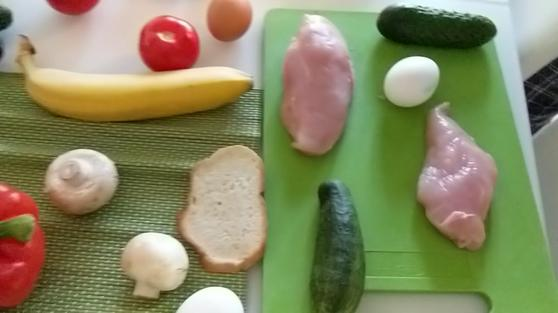banana: (14, 35, 256, 119)
champignon: (45, 148, 120, 217), (121, 228, 190, 301)
chicken_fillet: (411, 105, 502, 251), (275, 9, 357, 158)
cucumber: (309, 176, 370, 313), (378, 3, 500, 52)
egg: (378, 53, 443, 106), (205, 1, 256, 42), (178, 281, 240, 313)
pepper: (2, 183, 58, 313)
tomato: (136, 10, 196, 72)
white_bread: (182, 142, 268, 272)
